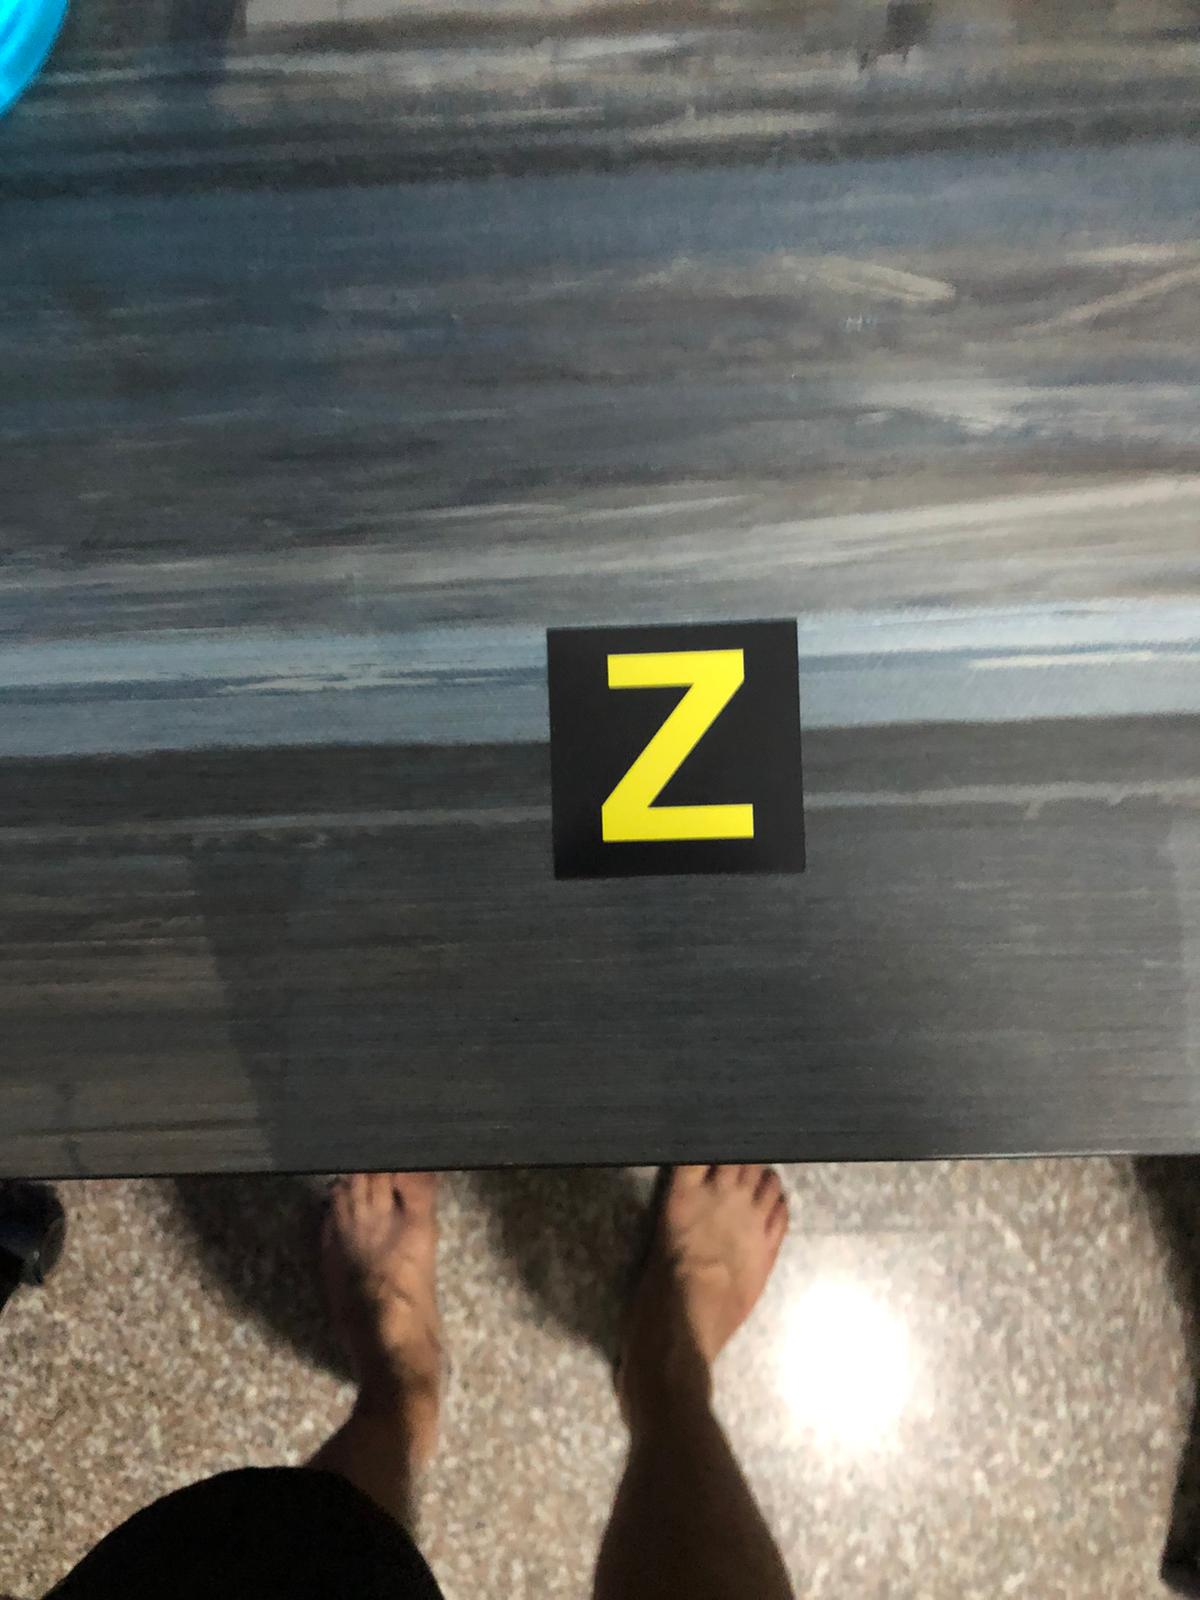Z: (546, 636, 800, 871)
